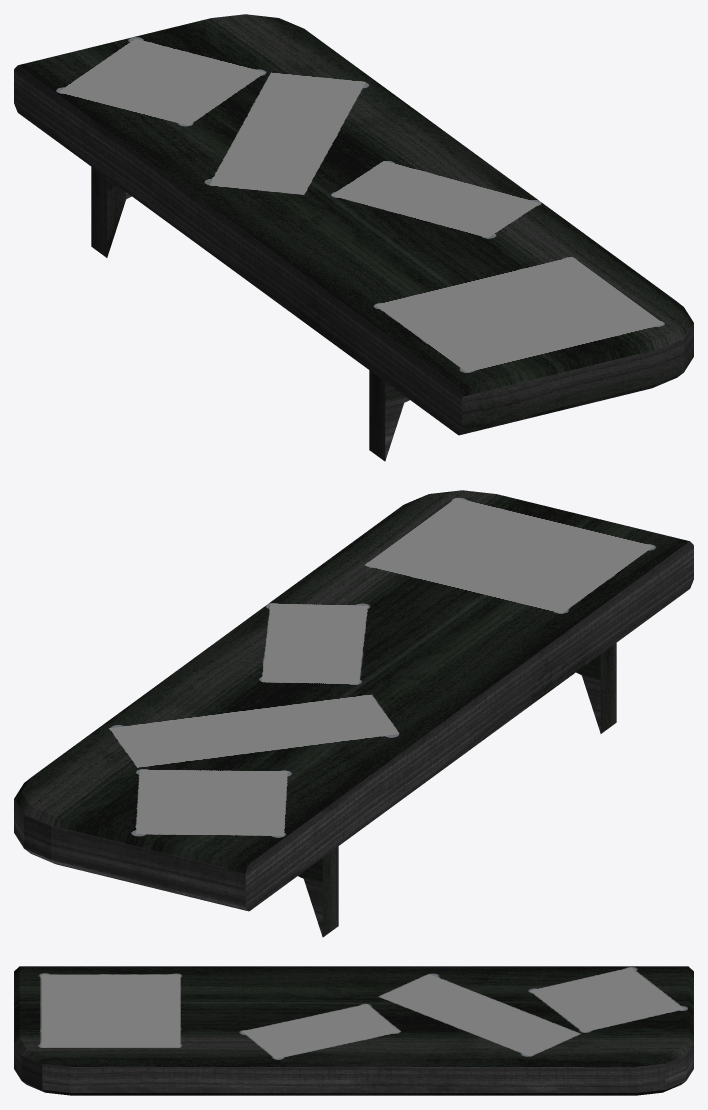
Rendered from platforma2.obj.
3 renders of one model, top to bottom at view 1: azimuth 30°, elevation 25°; view 2: azimuth 150°, elevation 25°; view 3: azimuth 270°, elevation 25°, orthographic. The views are drawn at different scales.
Parts seen in each view (by area): view 1: Cube.001; view 2: Cube.001; view 3: Cube.001.
Boxes of the visible parts, bbox=[...] form: Cube.001: bbox=[14, 14, 693, 461]; Cube.001: bbox=[14, 490, 693, 937]; Cube.001: bbox=[14, 966, 693, 1095].
Size of the model in its own units: 2 by 0.9408 by 6.
1 material, 1 textured.
